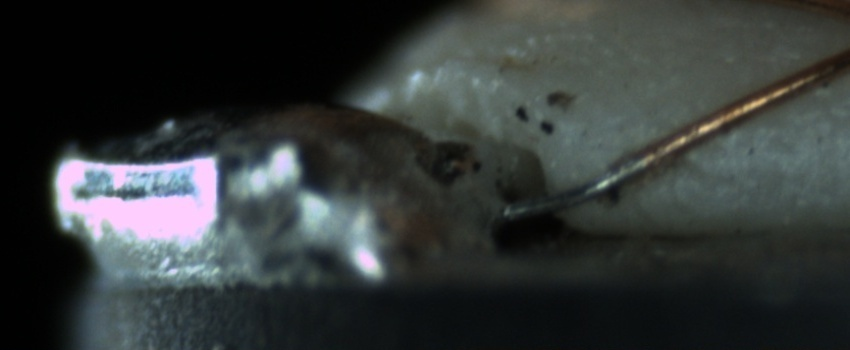TS: (502, 155, 646, 224)
